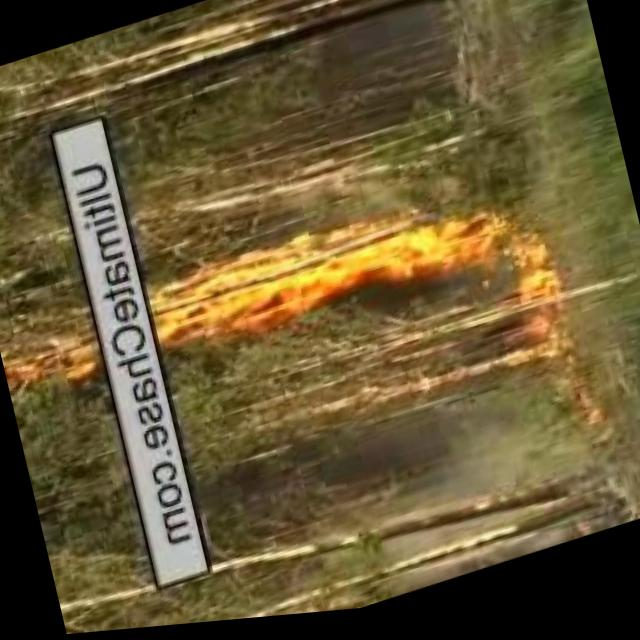Fire: (152, 217, 419, 357), (417, 188, 562, 350), (10, 328, 96, 396)
